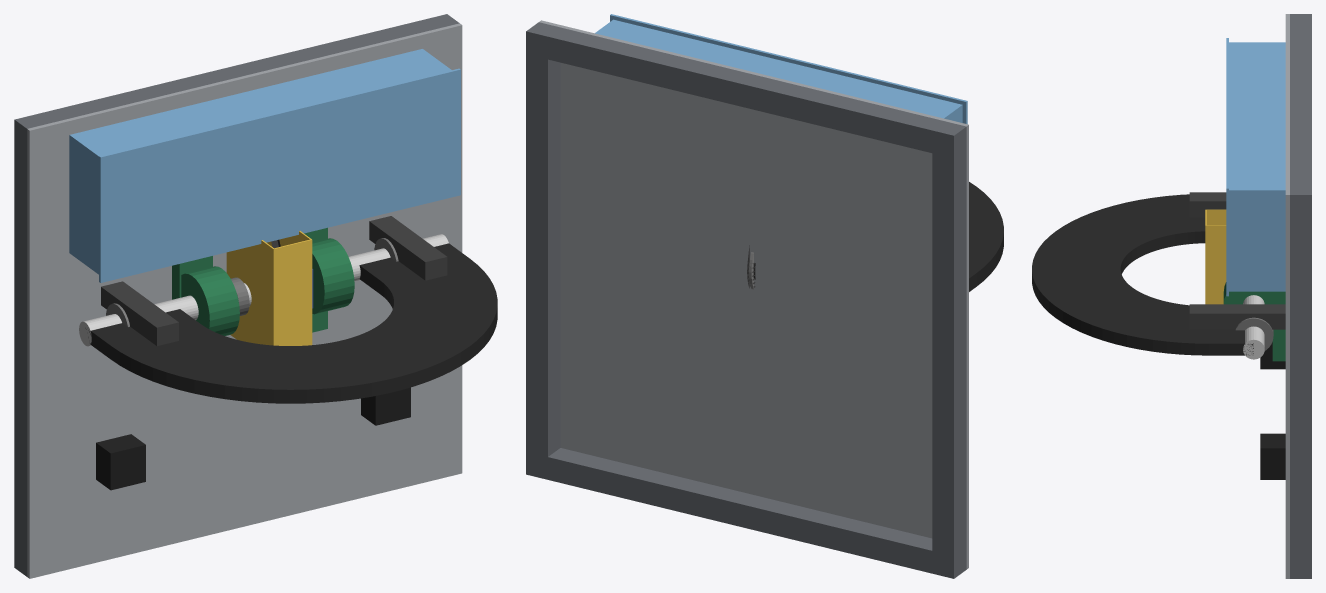
File: PARKFNB_V2_Assembly_3D_lid_on.obj
3 renders of one model, left to right at view 1: azimuth 30°, elevation 25°; view 2: azimuth 150°, elevation 25°; view 3: azimuth 270°, elevation 25°, orthographic. The views are drawn at different scales.
Visible parts, largest first — view 1: deck_plate, enclosure_lid, arch_rubber, enclosure, frame, chain_guard, bearing_ucp205, end_stop, rest_pad, shaft_25; view 2: deck_plate, frame, enclosure, arch_rubber, enclosure_lid; view 3: arch_rubber, enclosure, frame, end_stop, deck_plate, chain_guard, rest_pad, bearing_ucp205, shaft_25, enclosure_lid, arch_clamp.
Part boxes in pixels (x1=…): deck_plate: x1=27, y1=23, x2=462, y2=578; enclosure_lid: x1=99, y1=68, x2=460, y2=282; arch_rubber: x1=85, y1=243, x2=497, y2=403; enclosure: x1=69, y1=49, x2=451, y2=274; frame: x1=14, y1=14, x2=459, y2=576; chain_guard: x1=226, y1=231, x2=312, y2=345; bearing_ucp205: x1=172, y1=227, x2=354, y2=335; end_stop: x1=101, y1=216, x2=447, y2=345; rest_pad: x1=96, y1=387, x2=410, y2=490; shaft_25: x1=79, y1=234, x2=448, y2=346; deck_plate: x1=539, y1=20, x2=968, y2=569; frame: x1=526, y1=22, x2=966, y2=578; enclosure: x1=595, y1=19, x2=962, y2=122; arch_rubber: x1=969, y1=182, x2=1003, y2=291; enclosure_lid: x1=610, y1=14, x2=967, y2=124; arch_rubber: x1=1032, y1=194, x2=1253, y2=355; enclosure: x1=1229, y1=42, x2=1285, y2=291; frame: x1=1290, y1=14, x2=1311, y2=578; end_stop: x1=1189, y1=192, x2=1285, y2=329; deck_plate: x1=1285, y1=14, x2=1289, y2=578; chain_guard: x1=1205, y1=209, x2=1226, y2=304; rest_pad: x1=1260, y1=342, x2=1285, y2=479; bearing_ucp205: x1=1223, y1=282, x2=1285, y2=361; shaft_25: x1=1243, y1=295, x2=1264, y2=359; enclosure_lid: x1=1226, y1=38, x2=1228, y2=296; arch_clamp: x1=1235, y1=317, x2=1273, y2=350.
Bounding box in the file's own units: 490 × 485 × 320.
